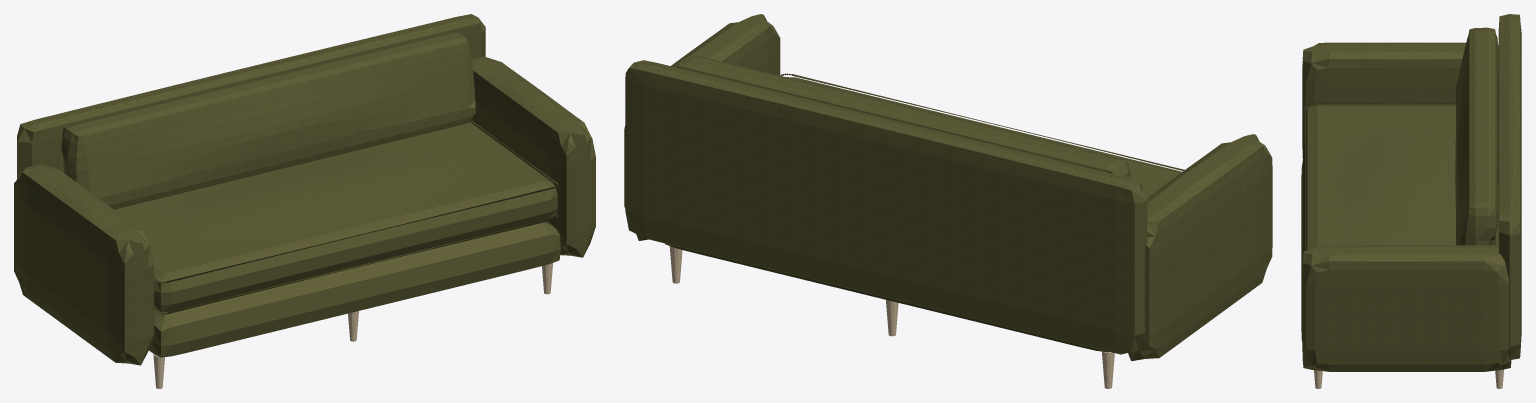
The model's file is ATL-MCS-3-seat.glb.
3 views of the same model, side by side, from view 1: azimuth 30°, elevation 25°; view 2: azimuth 150°, elevation 25°; view 3: azimuth 270°, elevation 25° (orthographic). The views are drawn at different scales.
Visible parts, largest first — view 1: seat:fabric:eyJwcmVzZXQiOiJoZXJyaW5nYm9uZSIsIndhcnAiOiJvbGl2, inside-back:fabric:eyJwcmVzZXQiOiJoZXJyaW5nYm9uZSIsIndhcnAiO, arm-pad-l:fabric:eyJwcmVzZXQiOiJoZXJyaW5nYm9uZSIsIndhcnAiOiJ, deck:fabric:eyJwcmVzZXQiOiJoZXJyaW5nYm9uZSIsIndhcnAiOiJvbGl2, arm-pad-r:fabric:eyJwcmVzZXQiOiJoZXJyaW5nYm9uZSIsIndhcnAiOiJ, back-pad:fabric:eyJwcmVzZXQiOiJoZXJyaW5nYm9uZSIsIndhcnAiOiJv, seat:piping:pbr; view 2: back-pad:fabric:eyJwcmVzZXQiOiJoZXJyaW5nYm9uZSIsIndhcnAiOiJv, arm-pad-l:fabric:eyJwcmVzZXQiOiJoZXJyaW5nYm9uZSIsIndhcnAiOiJ, inside-back:fabric:eyJwcmVzZXQiOiJoZXJyaW5nYm9uZSIsIndhcnAiO, arm-pad-r:fabric:eyJwcmVzZXQiOiJoZXJyaW5nYm9uZSIsIndhcnAiOiJ, seat:fabric:eyJwcmVzZXQiOiJoZXJyaW5nYm9uZSIsIndhcnAiOiJvbGl2, deck:fabric:eyJwcmVzZXQiOiJoZXJyaW5nYm9uZSIsIndhcnAiOiJvbGl2, seat:piping:pbr; view 3: arm-pad-r:fabric:eyJwcmVzZXQiOiJoZXJyaW5nYm9uZSIsIndhcnAiOiJ, seat:fabric:eyJwcmVzZXQiOiJoZXJyaW5nYm9uZSIsIndhcnAiOiJvbGl2, arm-pad-l:fabric:eyJwcmVzZXQiOiJoZXJyaW5nYm9uZSIsIndhcnAiOiJ, inside-back:fabric:eyJwcmVzZXQiOiJoZXJyaW5nYm9uZSIsIndhcnAiO, back-pad:fabric:eyJwcmVzZXQiOiJoZXJyaW5nYm9uZSIsIndhcnAiOiJv, deck:fabric:eyJwcmVzZXQiOiJoZXJyaW5nYm9uZSIsIndhcnAiOiJvbGl2, seat:piping:pbr.
Part boxes in pixels (x1,y1,x2,y2): seat:fabric:eyJwcmVzZXQiOiJoZXJyaW5nYm9uZSIsIndhcnAiOiJvbGl2: [114, 122, 557, 312]; inside-back:fabric:eyJwcmVzZXQiOiJoZXJyaW5nYm9uZSIsIndhcnAiO: [61, 31, 475, 209]; arm-pad-l:fabric:eyJwcmVzZXQiOiJoZXJyaW5nYm9uZSIsIndhcnAiOiJ: [14, 164, 153, 365]; deck:fabric:eyJwcmVzZXQiOiJoZXJyaW5nYm9uZSIsIndhcnAiOiJvbGl2: [149, 220, 560, 357]; arm-pad-r:fabric:eyJwcmVzZXQiOiJoZXJyaW5nYm9uZSIsIndhcnAiOiJ: [469, 56, 595, 257]; back-pad:fabric:eyJwcmVzZXQiOiJoZXJyaW5nYm9uZSIsIndhcnAiOiJv: [17, 14, 485, 179]; seat:piping:pbr: [154, 120, 558, 314]; back-pad:fabric:eyJwcmVzZXQiOiJoZXJyaW5nYm9uZSIsIndhcnAiOiJv: [625, 60, 1147, 354]; arm-pad-l:fabric:eyJwcmVzZXQiOiJoZXJyaW5nYm9uZSIsIndhcnAiOiJ: [1128, 134, 1272, 360]; inside-back:fabric:eyJwcmVzZXQiOiJoZXJyaW5nYm9uZSIsIndhcnAiO: [677, 54, 1130, 178]; arm-pad-r:fabric:eyJwcmVzZXQiOiJoZXJyaW5nYm9uZSIsIndhcnAiOiJ: [624, 14, 780, 240]; seat:fabric:eyJwcmVzZXQiOiJoZXJyaW5nYm9uZSIsIndhcnAiOiJvbGl2: [786, 77, 1181, 198]; deck:fabric:eyJwcmVzZXQiOiJoZXJyaW5nYm9uZSIsIndhcnAiOiJvbGl2: [665, 243, 1108, 352]; seat:piping:pbr: [779, 73, 1184, 170]; arm-pad-r:fabric:eyJwcmVzZXQiOiJoZXJyaW5nYm9uZSIsIndhcnAiOiJ: [1302, 245, 1511, 371]; seat:fabric:eyJwcmVzZXQiOiJoZXJyaW5nYm9uZSIsIndhcnAiOiJvbGl2: [1303, 104, 1497, 253]; arm-pad-l:fabric:eyJwcmVzZXQiOiJoZXJyaW5nYm9uZSIsIndhcnAiOiJ: [1302, 42, 1498, 158]; inside-back:fabric:eyJwcmVzZXQiOiJoZXJyaW5nYm9uZSIsIndhcnAiO: [1455, 27, 1498, 245]; back-pad:fabric:eyJwcmVzZXQiOiJoZXJyaW5nYm9uZSIsIndhcnAiOiJv: [1498, 14, 1521, 359]; deck:fabric:eyJwcmVzZXQiOiJoZXJyaW5nYm9uZSIsIndhcnAiOiJvbGl2: [1301, 160, 1498, 341]; seat:piping:pbr: [1304, 102, 1495, 251].
Size of the model in its own units: 2 by 0.78 by 0.85.
13 materials, 6 textured.
